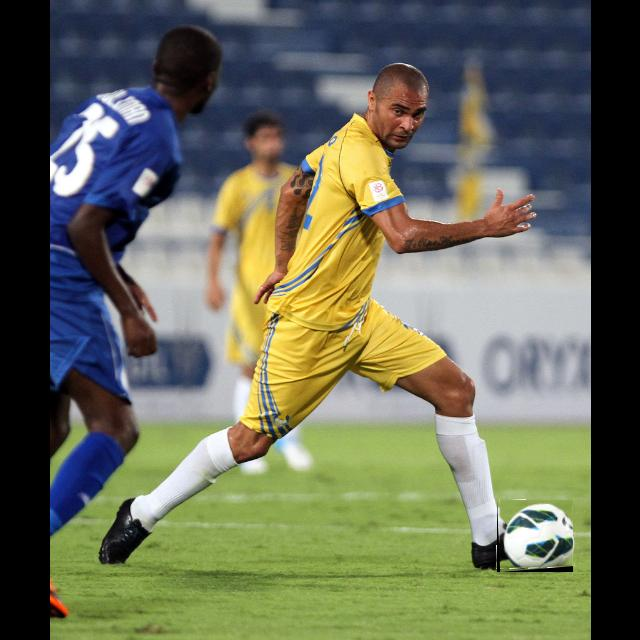Football: (497, 500, 573, 572)
